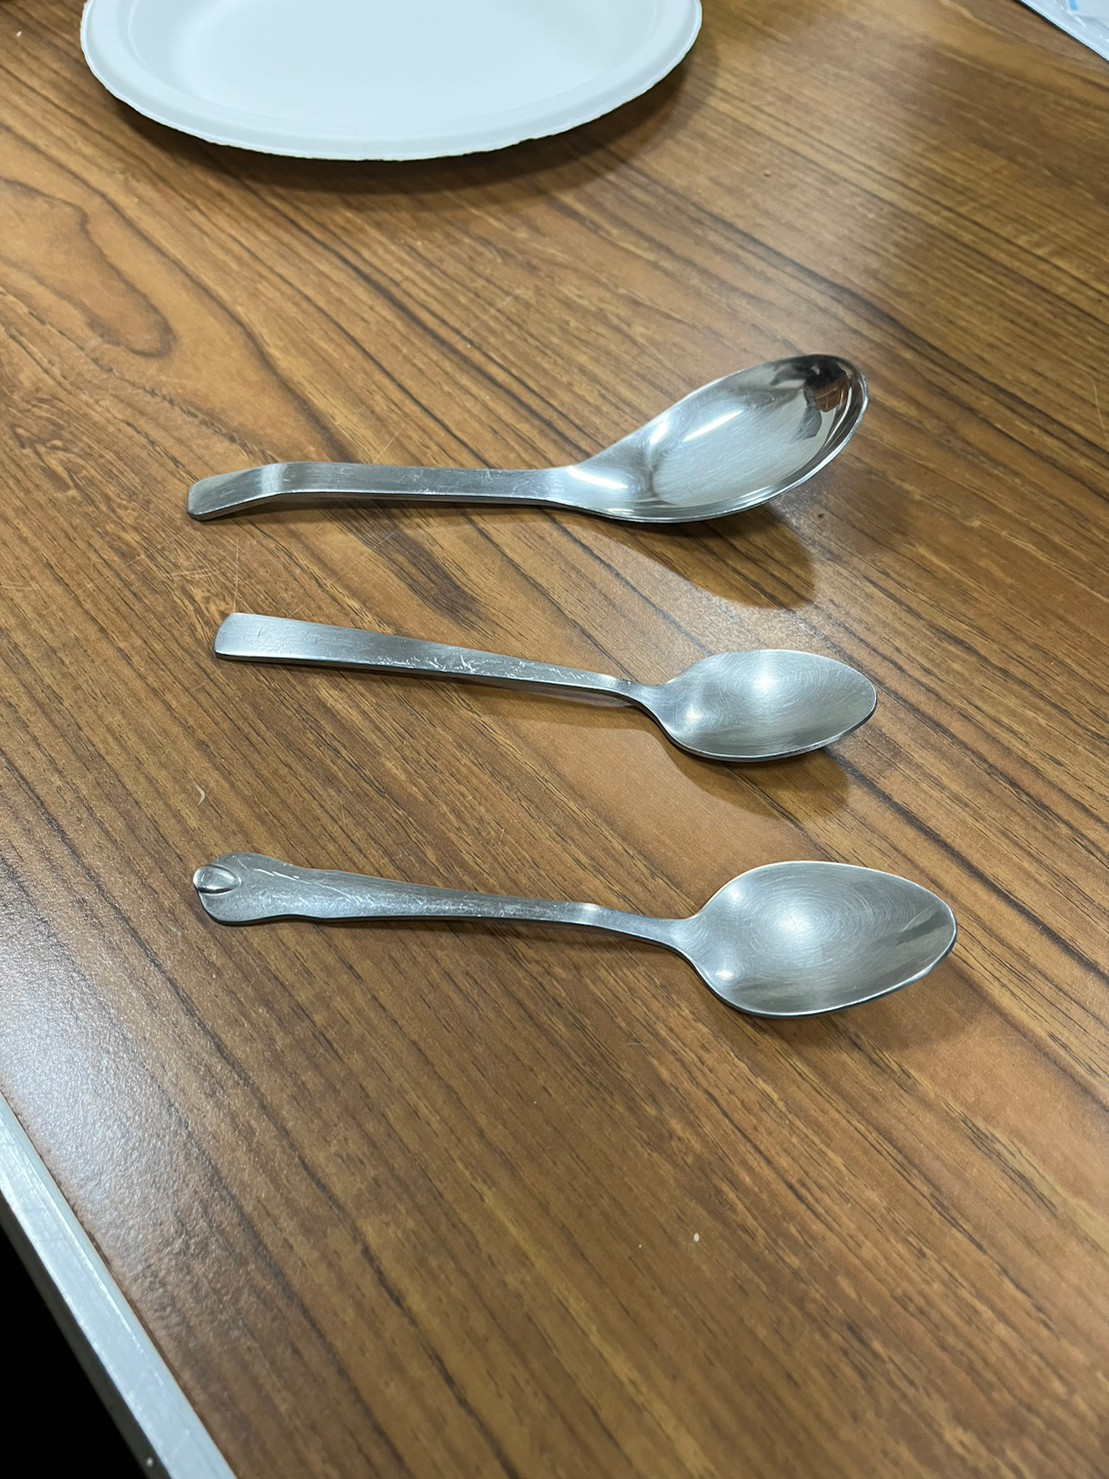spoon: (188, 833, 974, 1053), (156, 342, 899, 562), (199, 587, 900, 781)
